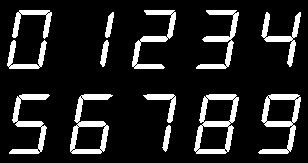eight: (193, 92, 241, 155)
five: (8, 93, 50, 155)
four: (261, 11, 302, 68)
nine: (258, 93, 302, 155)
one: (98, 11, 115, 68)
seven: (141, 93, 177, 153)
six: (70, 93, 114, 155)
three: (195, 8, 240, 70)
two: (131, 8, 177, 70)
zero: (7, 9, 53, 70)
